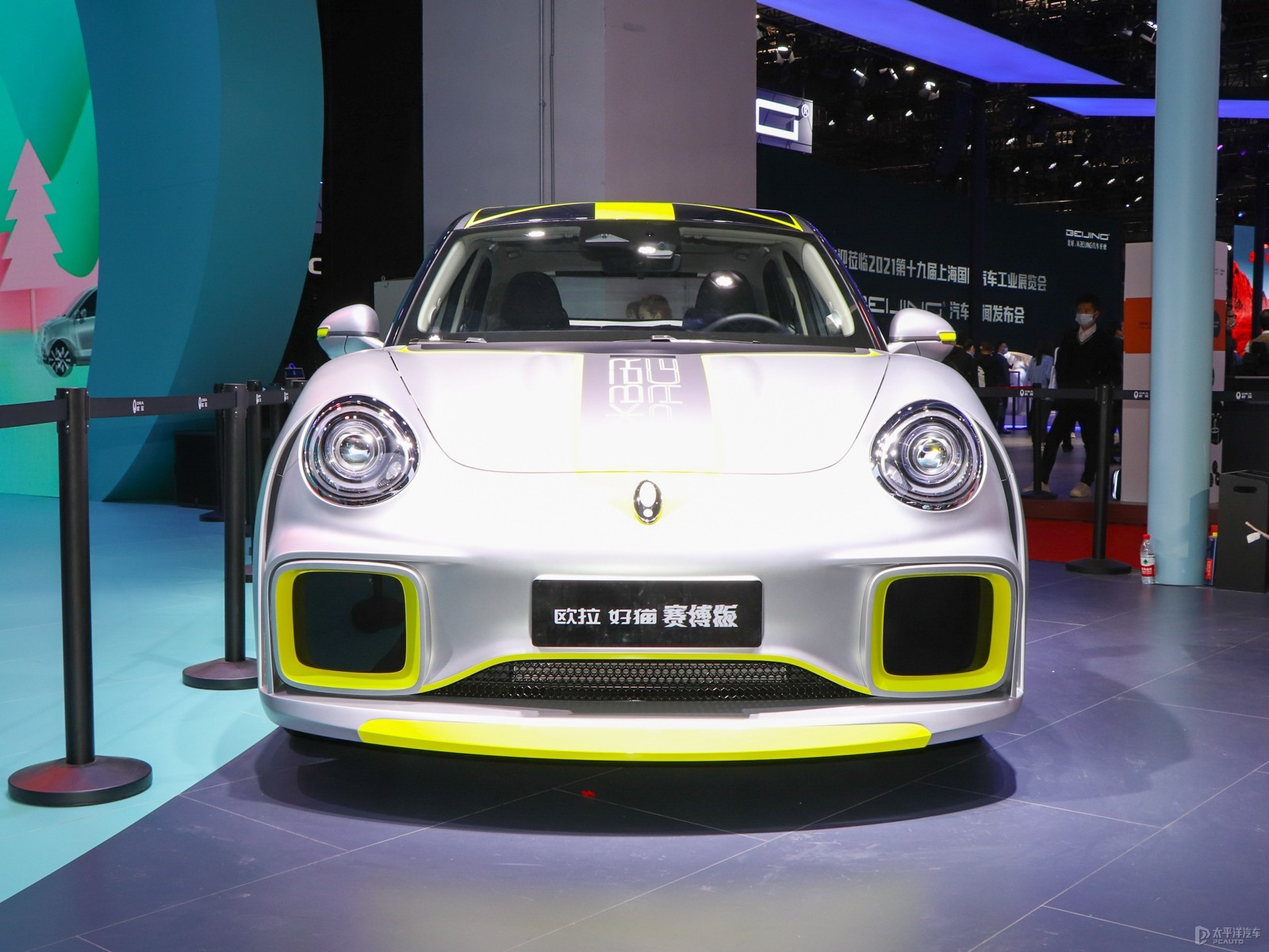ORA: (634, 481, 662, 522)
